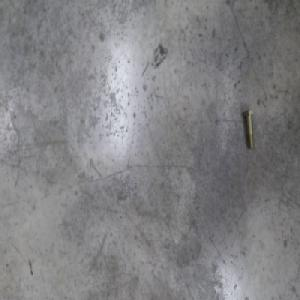Bolt: (242, 108, 254, 149)
